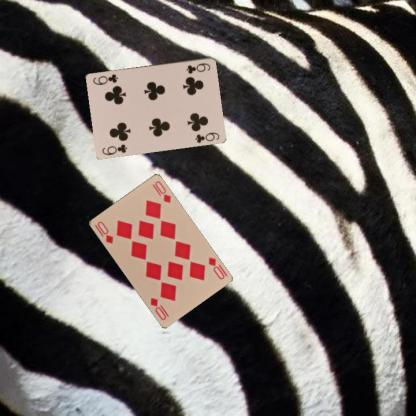10d: (92, 218, 114, 245), (206, 254, 225, 281)
6c: (100, 141, 129, 156), (184, 60, 211, 75)
